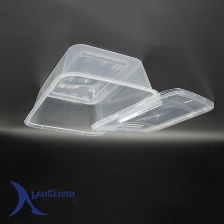plastic_box: (16, 38, 219, 145)
